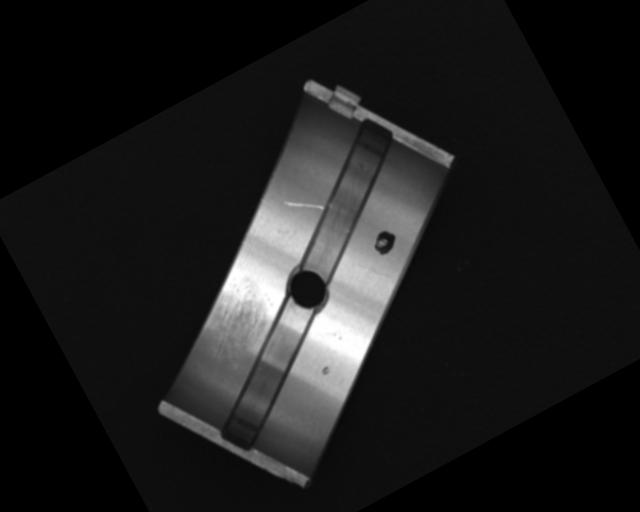blot: (368, 225, 401, 258)
bruise: (319, 364, 332, 376)
gap: (252, 108, 439, 287), (181, 297, 354, 459)
hole: (277, 260, 336, 322)
nick: (281, 185, 325, 226), (356, 249, 392, 289)
scratch: (182, 263, 286, 368)
